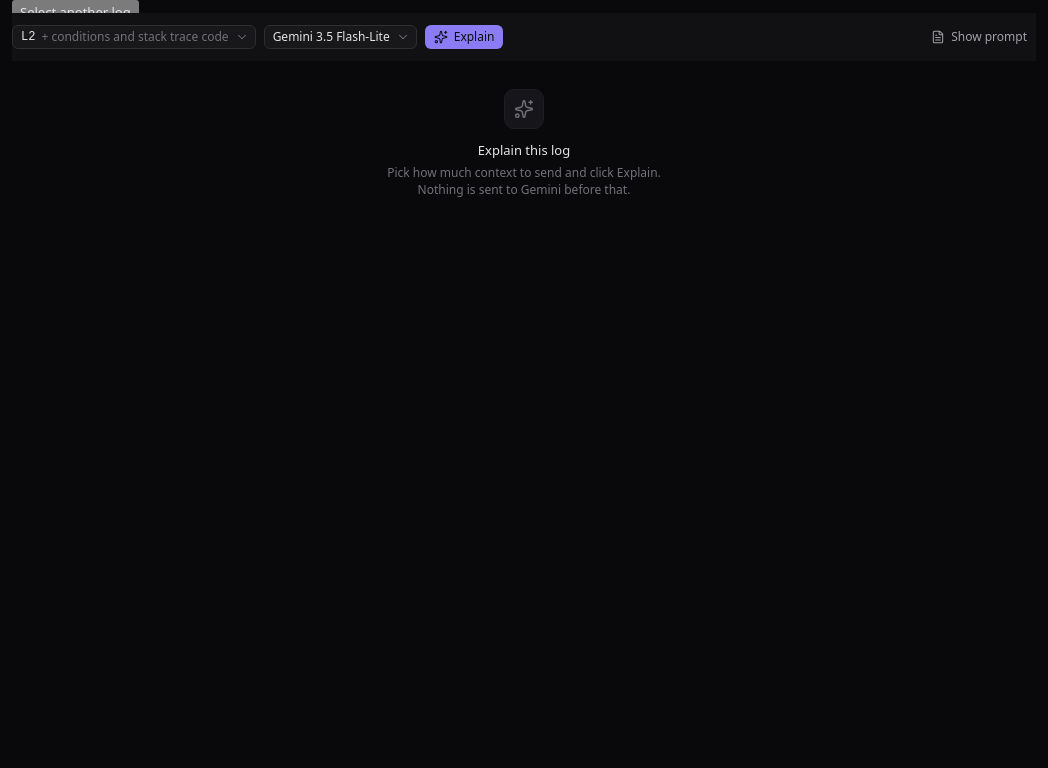
Test case: explain tab › an error event rate_limited shows its message
Click the button "Explain".
click(464, 37)  # box [425, 25, 504, 49]
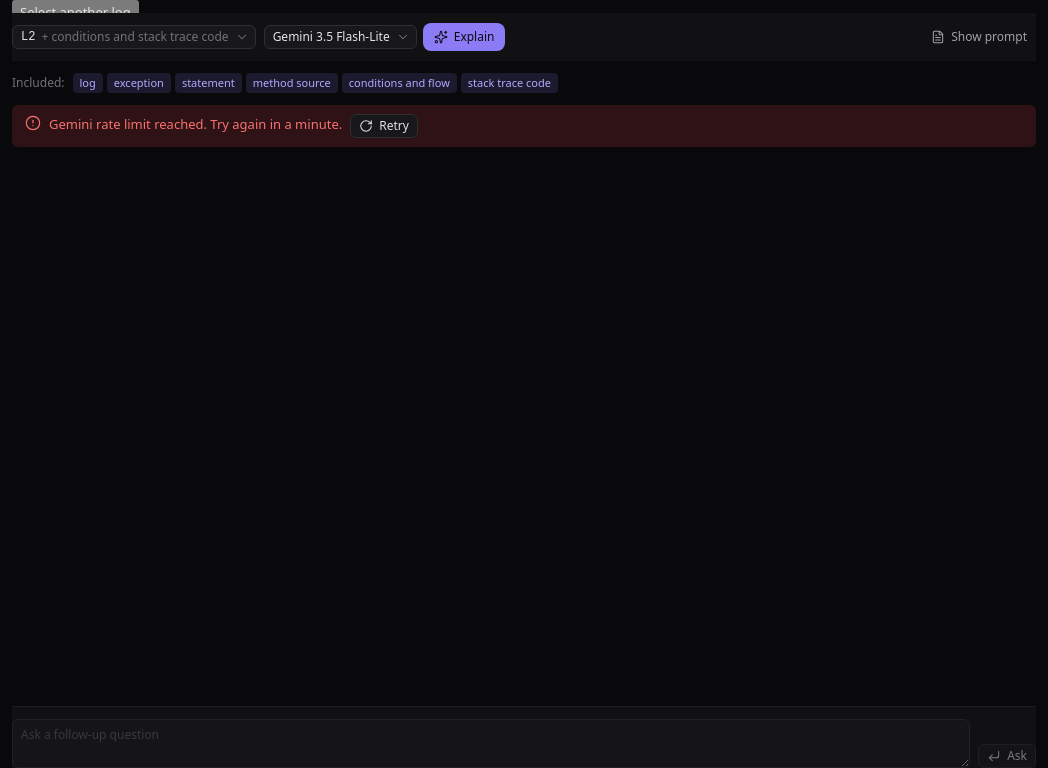
Expected: the message shows "Gemini rate limit reached. Try again in a minute.", [49, 115, 342, 133]
